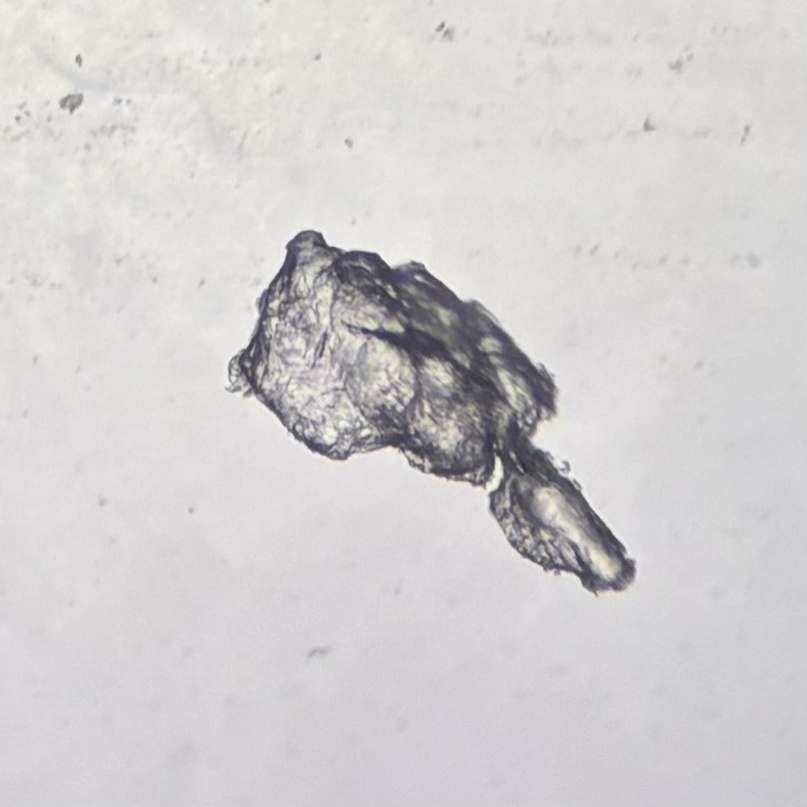microplastic: (223, 230, 638, 594)
